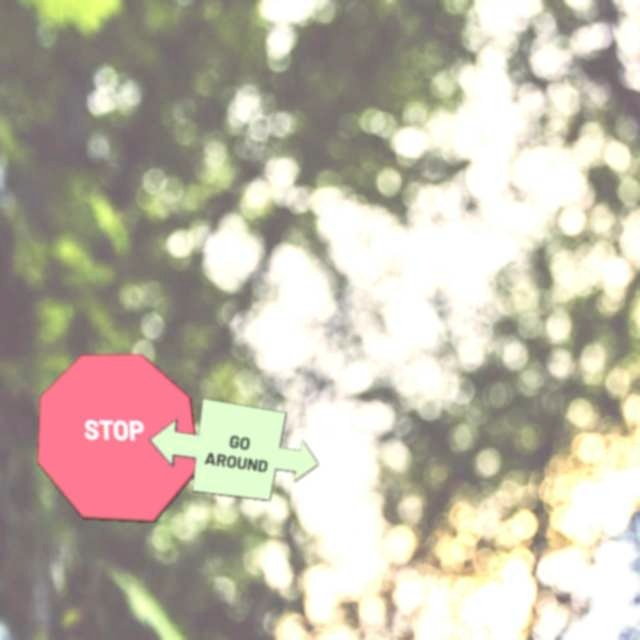GO_AROUND: (149, 397, 319, 501)
STOP: (36, 353, 200, 523)
